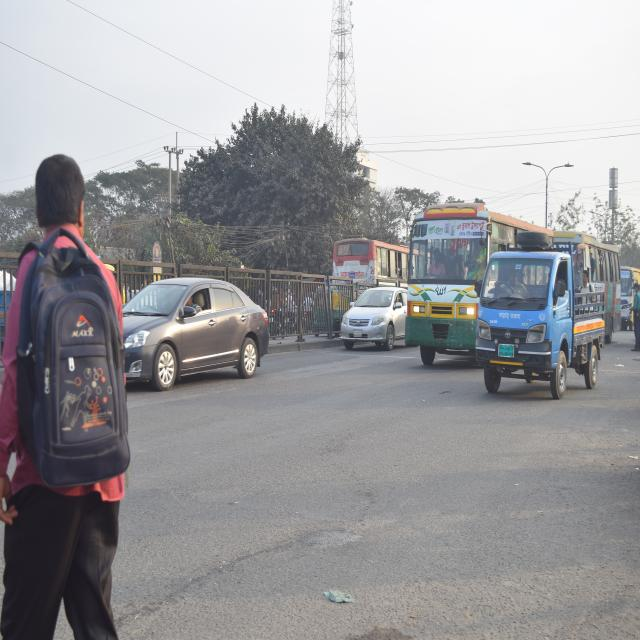bus: (408, 212, 498, 351), (570, 236, 618, 327), (328, 236, 408, 290)
car: (124, 268, 272, 390), (339, 281, 408, 351)
pickup-van: (477, 252, 606, 389)
